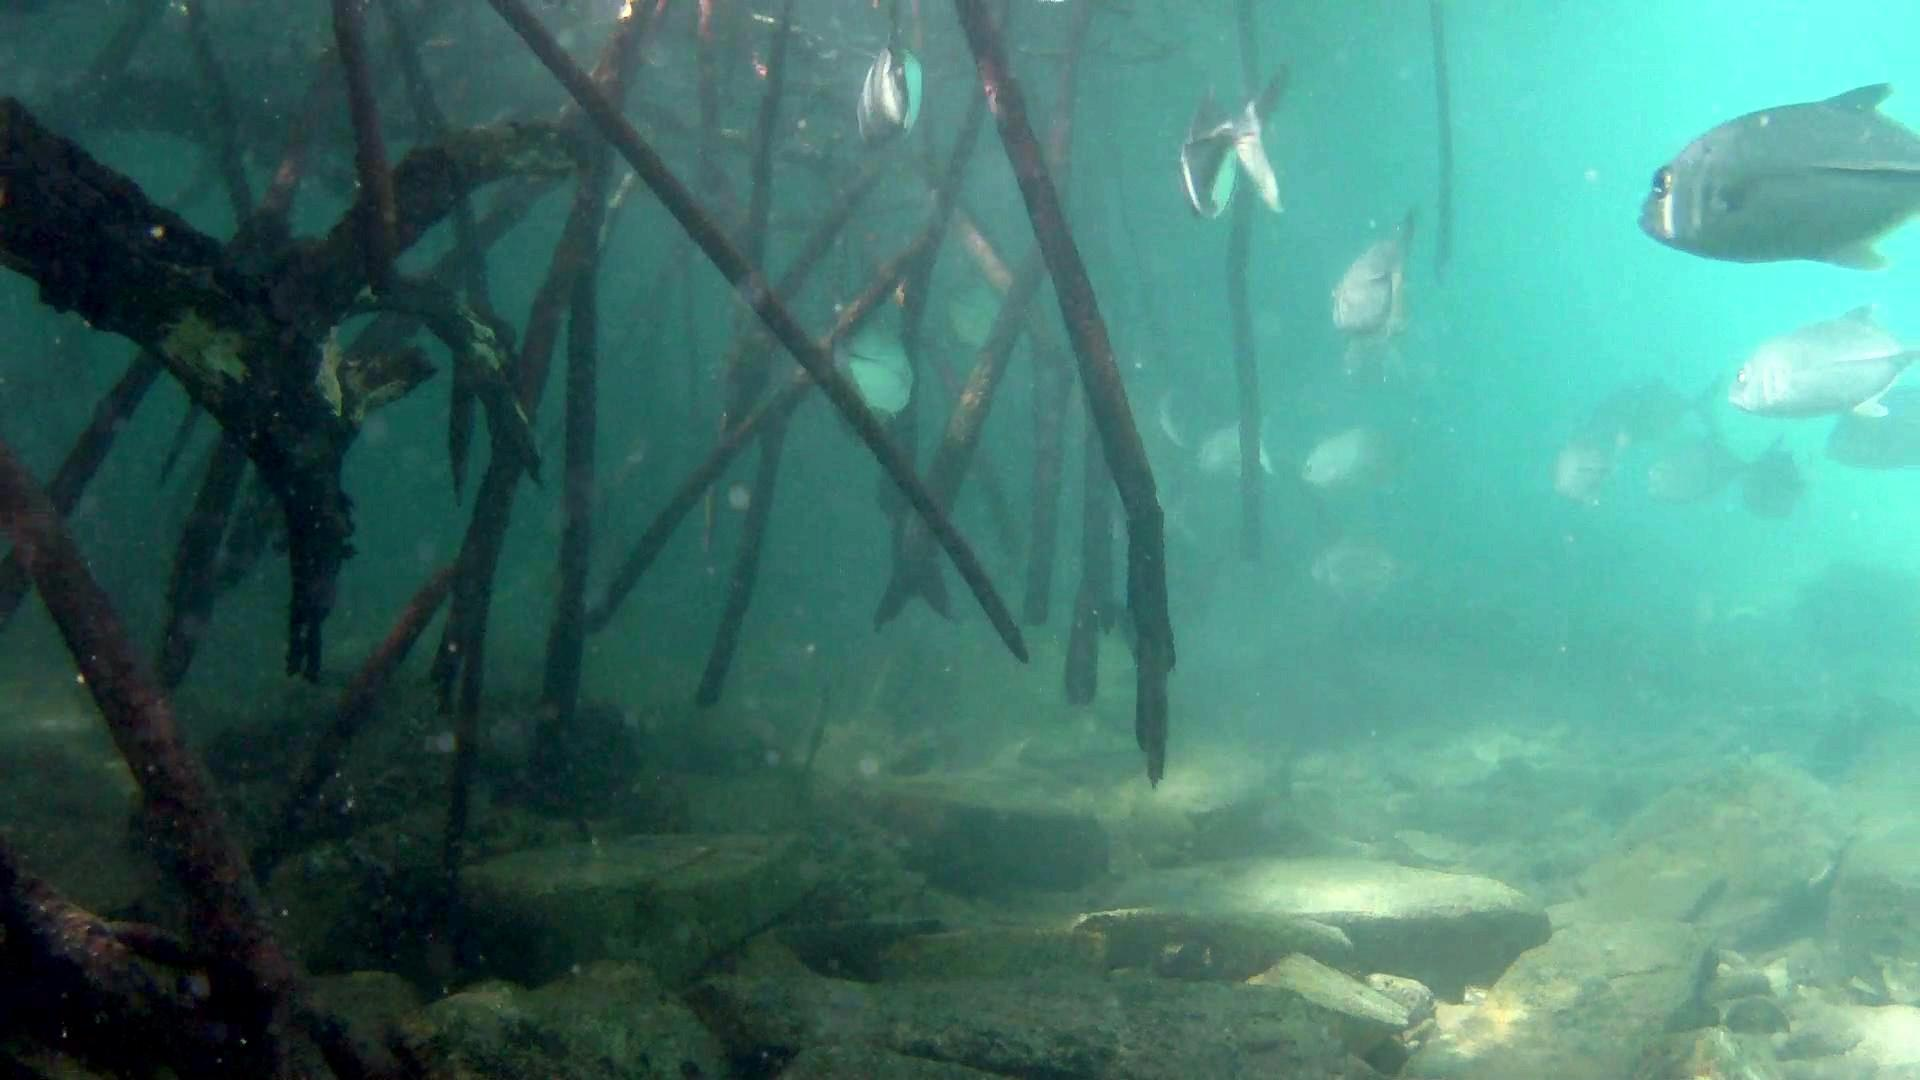caranx: (1631, 66, 1920, 286), (1149, 53, 1308, 237), (1721, 295, 1920, 435)
